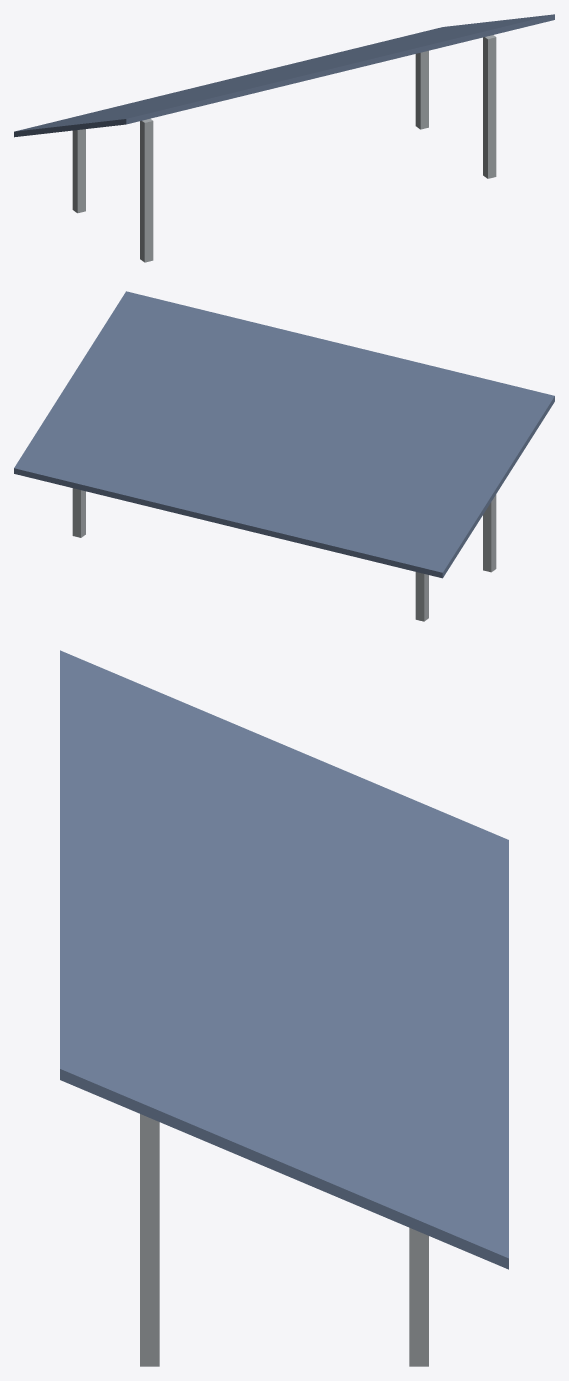
Rendered from solar-table-far.glb.
3 renders of one model, top to bottom at view 1: azimuth 30°, elevation 25°; view 2: azimuth 150°, elevation 25°; view 3: azimuth 270°, elevation 25°, orthographic. The views are drawn at different scales.
Parts seen in each view (by area): view 1: solar-table-far; view 2: solar-table-far; view 3: solar-table-far.
Boxes of the visible parts, x1,y1,x2,y2 form: solar-table-far: (14,14,554,262); solar-table-far: (14,291,554,621); solar-table-far: (60,650,508,1366).
Bounding box in the file's own units: 2.68 × 1 × 1.21.
